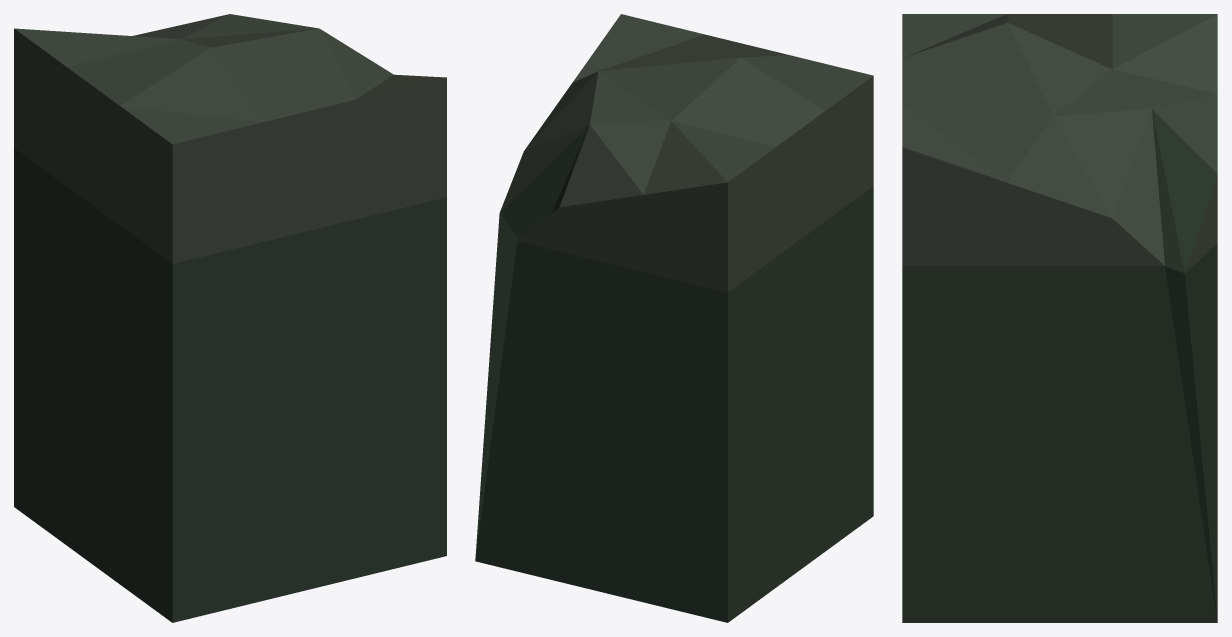
Rendered from tileStoneCoastInvCorner1.fbx.
3 views of the same model, side by side, from view 1: azimuth 30°, elevation 25°; view 2: azimuth 150°, elevation 25°; view 3: azimuth 270°, elevation 25° (orthographic). The views are drawn at different scales.
Parts seen in each view (by area): view 1: tileStoneCoastInvCorner1; view 2: tileStoneCoastInvCorner1; view 3: tileStoneCoastInvCorner1.
Part boxes in pixels (box(x1,y1,x2,y2)): tileStoneCoastInvCorner1: box(14, 14, 446, 622); tileStoneCoastInvCorner1: box(475, 14, 873, 622); tileStoneCoastInvCorner1: box(902, 14, 1217, 622).
Bounding box in the file's own units: 300 × 538 × 300.
Materials: 1 (1 with a texture image).
